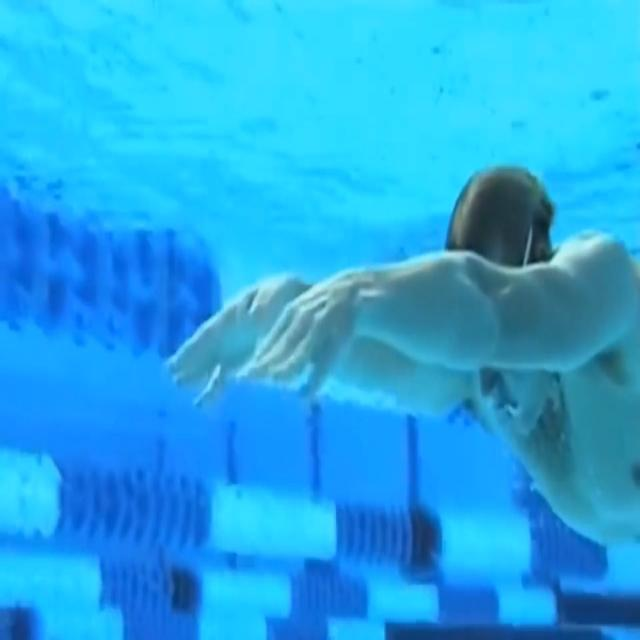Swimming: (170, 167, 640, 551)
